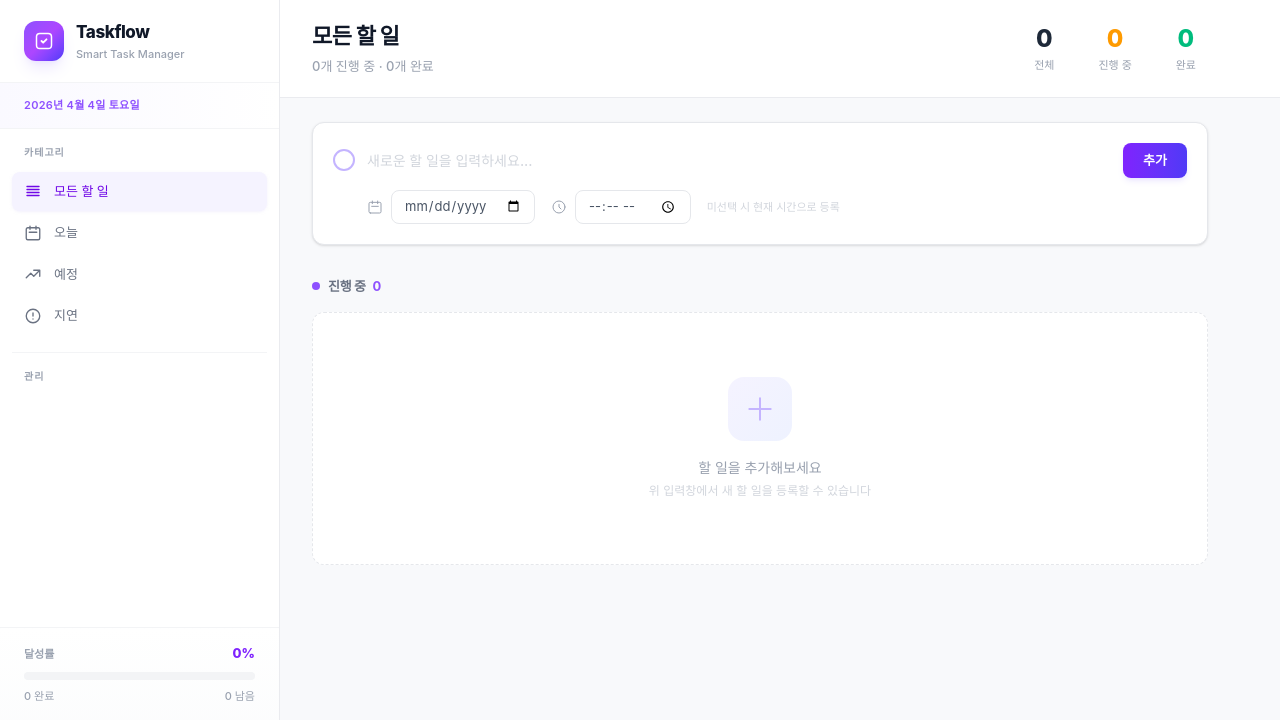
Scenario: App 컴포넌트 테스트 › 할 일을 추가할 수 있다
Type "새로운 할 일" into the field with placeholder "새로운 할 일을 입력하세요...".
click(739, 160); type("새로운 할 일")  # box x1=367 y1=146 x2=1111 y2=175
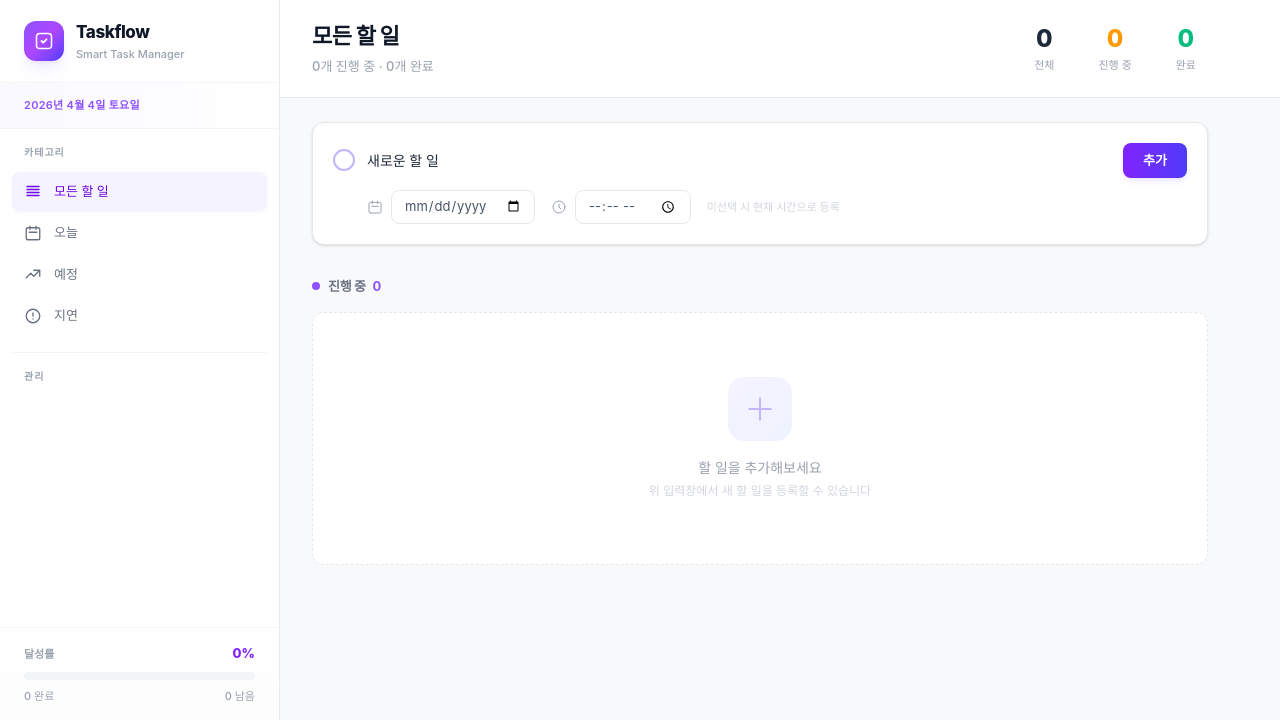
Click the button "추가".
click(1155, 160)  # box x1=1123 y1=142 x2=1187 y2=178
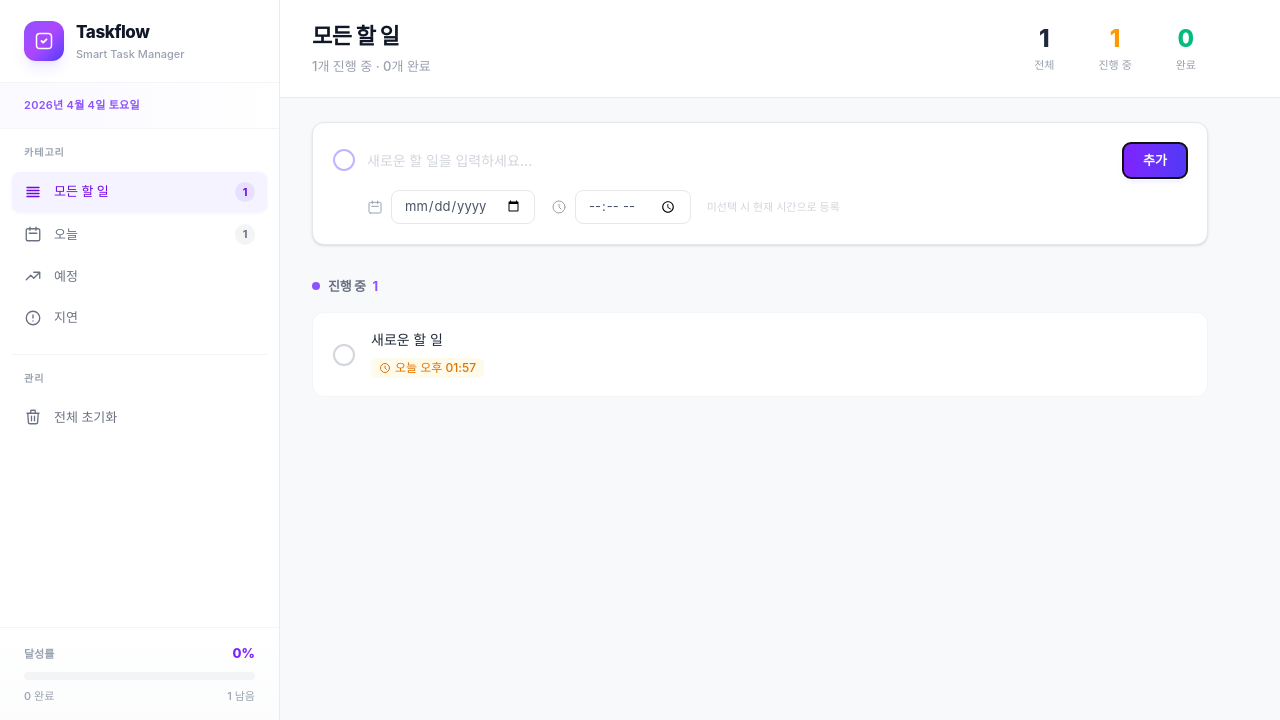
Expected: the text "새로운 할 일" is shown, x1=371 y1=331 x2=443 y2=348
